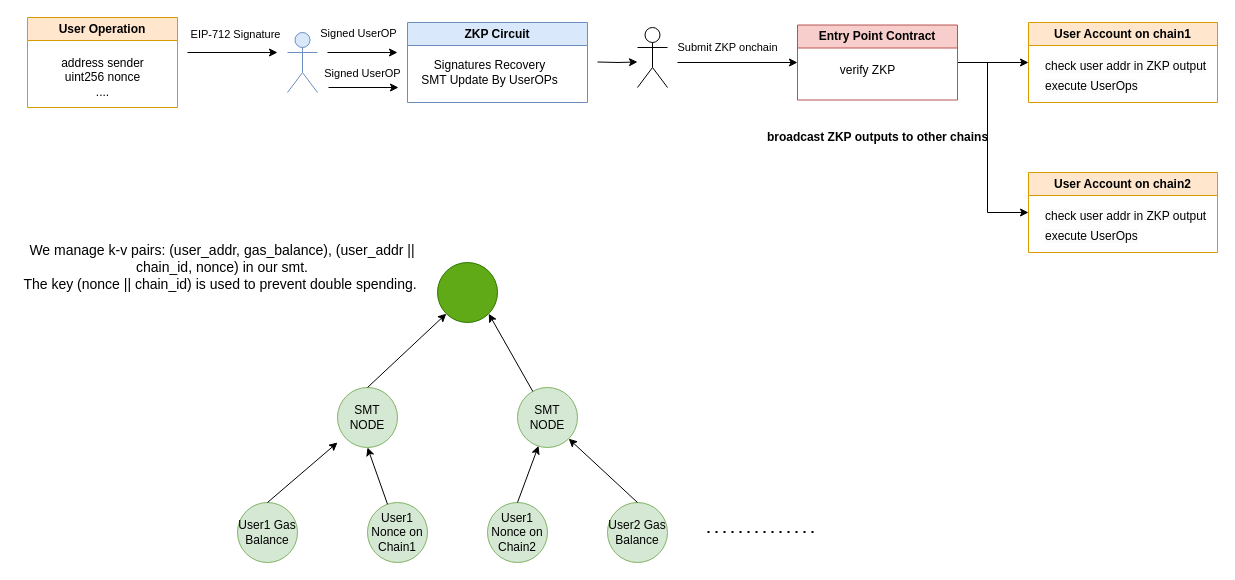
Some shapes in this 1235 by 580 pixel diagram are drawn without their labels. The centre of each missing label's shape, as x and y in pixels:
"Bundler" goes at point (652, 57).
"SMT ROOT" goes at point (467, 292).
"User" goes at point (302, 62).
